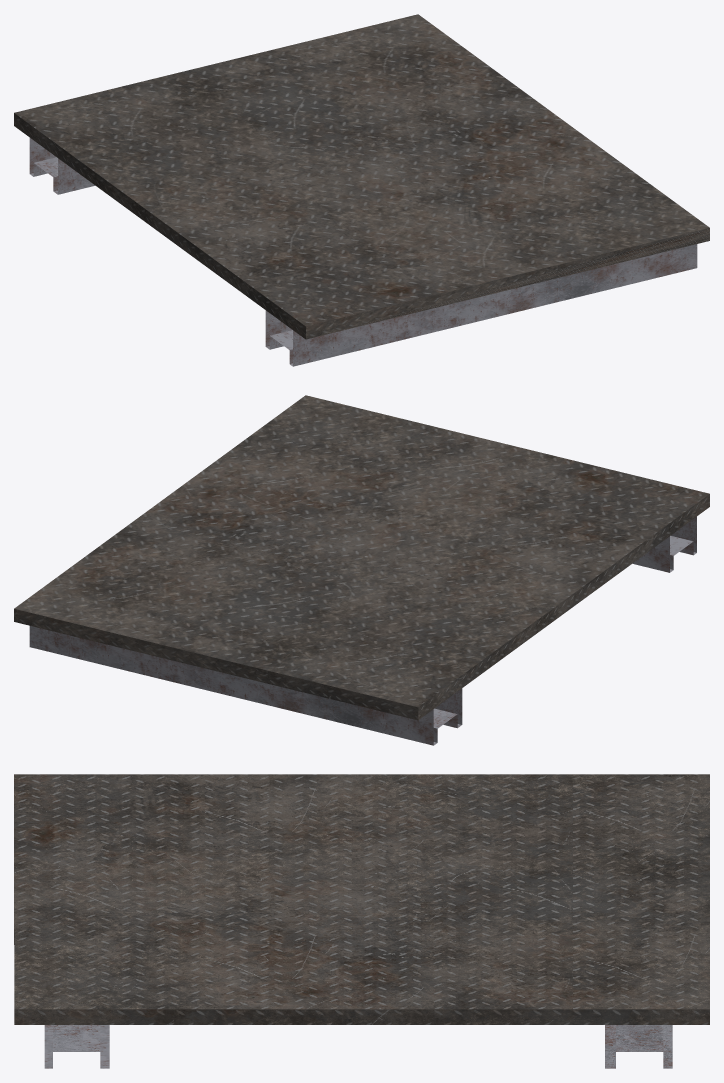
The model's file is Factory1Stairs03.FBX.
3 renders of one model, top to bottom at view 1: azimuth 30°, elevation 25°; view 2: azimuth 150°, elevation 25°; view 3: azimuth 270°, elevation 25°, orthographic. The views are drawn at different scales.
Visible parts, largest first — view 1: Factory1Stairs03; view 2: Factory1Stairs03; view 3: Factory1Stairs03.
Part boxes in pixels (bbox=[...]): Factory1Stairs03: bbox=[14, 14, 709, 366]; Factory1Stairs03: bbox=[14, 395, 709, 745]; Factory1Stairs03: bbox=[14, 774, 709, 1068].
Size of the model in its own units: 200 by 23.55 by 250.
